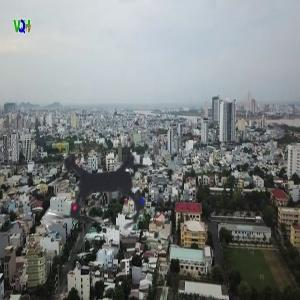drone: (13, 105, 191, 283)
